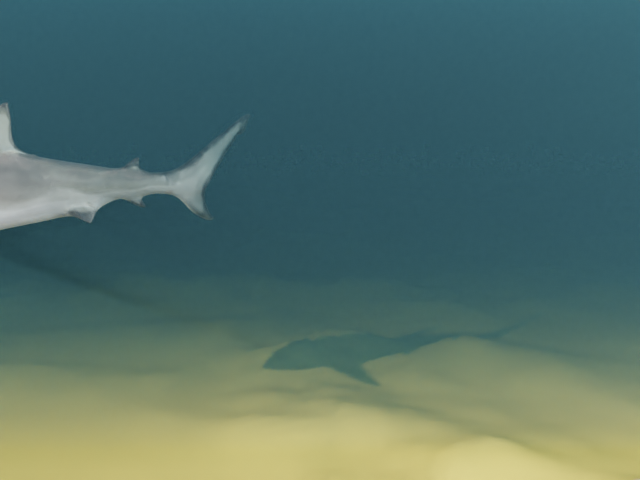Carribean Shark.001: (0, 102, 250, 258)
